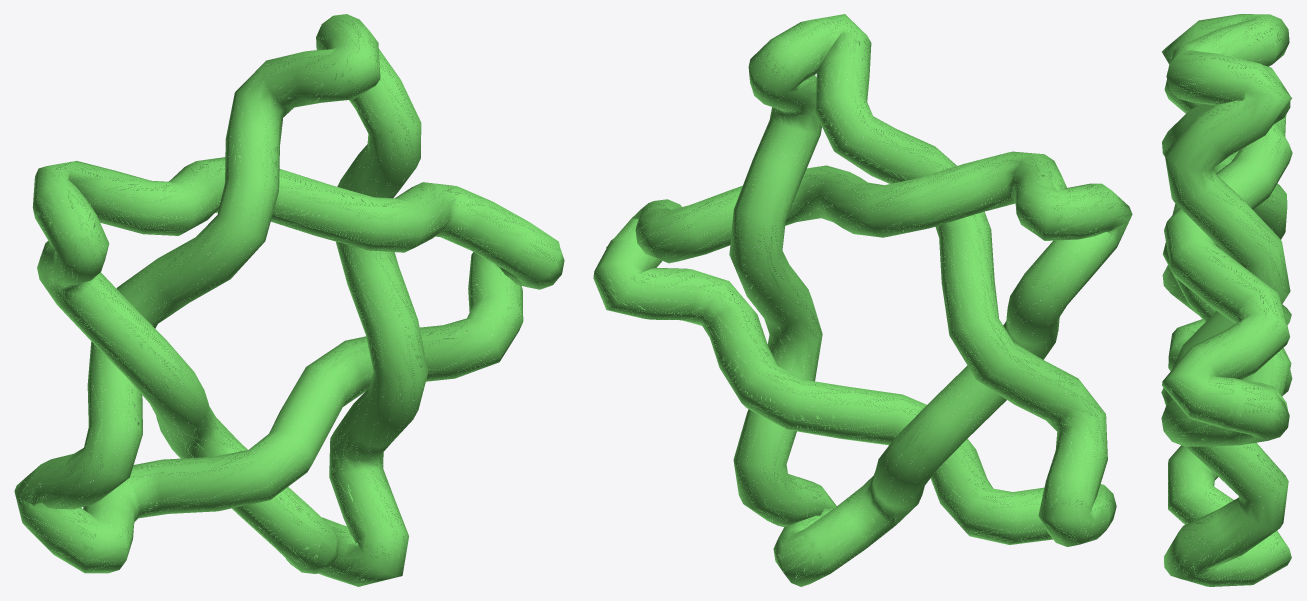
Rendered from star5.glb.
3 views of the same model, side by side, from view 1: azimuth 30°, elevation 25°; view 2: azimuth 150°, elevation 25°; view 3: azimuth 270°, elevation 25° (orthographic). The views are drawn at different scales.
Visible parts, largest first — view 1: MyParametricCurve; view 2: MyParametricCurve; view 3: MyParametricCurve.
Part boxes in pixels (x1,y1,x2,y2): MyParametricCurve: (14,14,564,586); MyParametricCurve: (593,14,1132,586); MyParametricCurve: (1161,14,1292,586).
Size of the model in its own units: 14.04 by 14.63 by 3.3.
